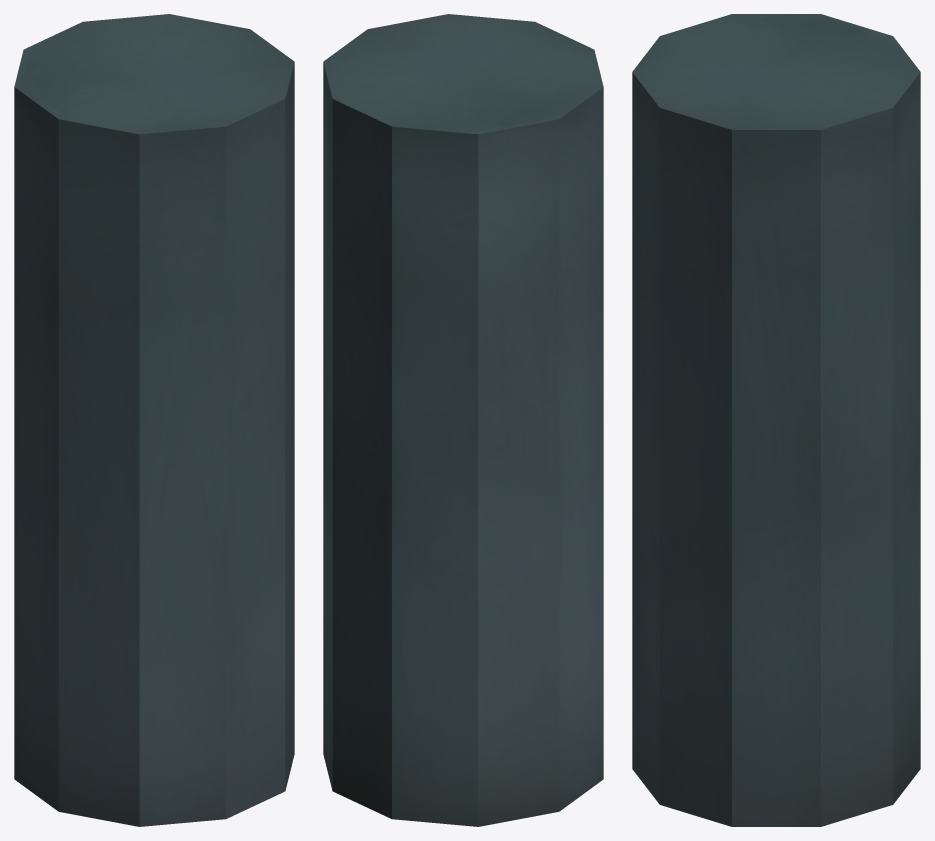
The model's file is sentry_pillar.fbx.
The picture shows the model from 3 angles, left to right: view 1: azimuth 30°, elevation 25°; view 2: azimuth 150°, elevation 25°; view 3: azimuth 270°, elevation 25°; orthographic projection.
Parts seen in each view (by area): view 1: Cylinder; view 2: Cylinder; view 3: Cylinder.
Part boxes in pixels (x1=…): Cylinder: x1=14, y1=14, x2=294, y2=826; Cylinder: x1=323, y1=14, x2=603, y2=826; Cylinder: x1=632, y1=14, x2=920, y2=826.
Bounding box in the file's own units: 22.83 × 64 × 24.
1 material, 1 textured.
